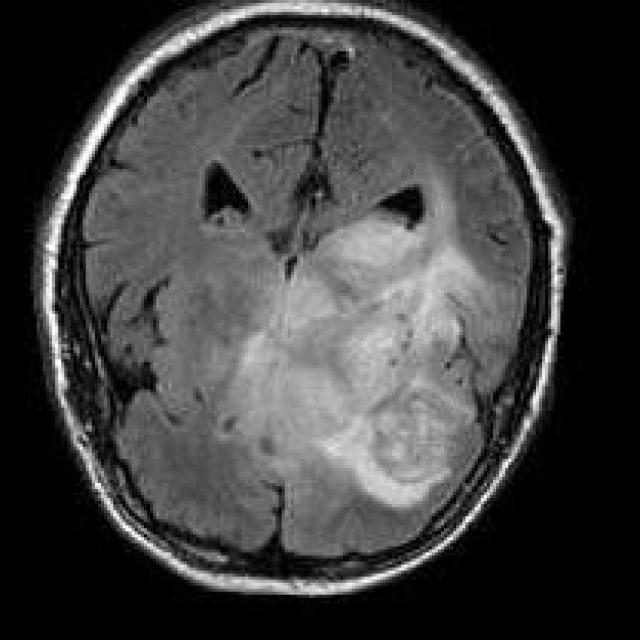Tumor-Cell: (299, 202, 481, 500)
